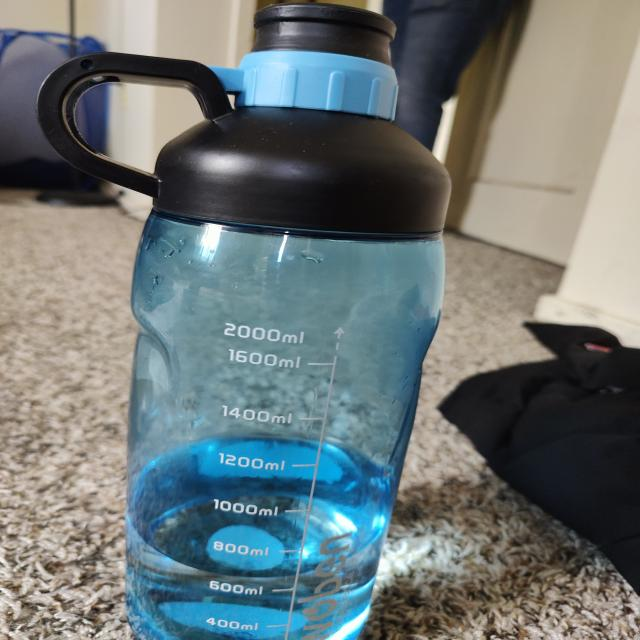bottle: (47, 11, 445, 639)
